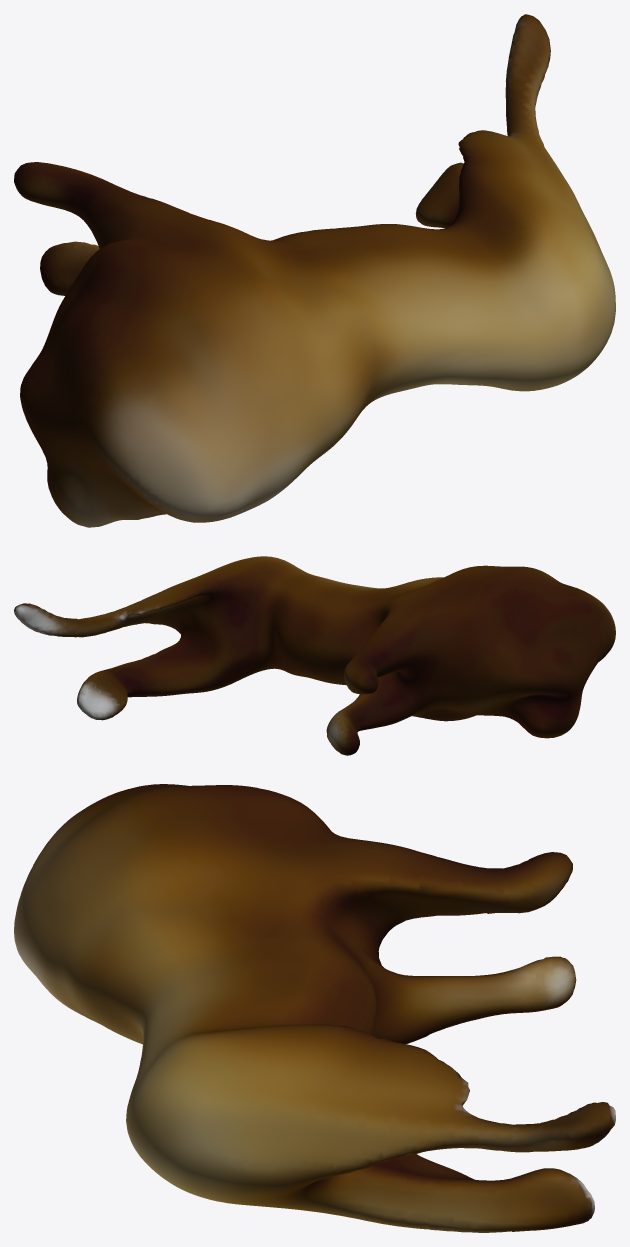
File: lion.glb
3 views of the same model, one above another, from view 1: azimuth 30°, elevation 25°; view 2: azimuth 150°, elevation 25°; view 3: azimuth 270°, elevation 25° (orthographic). The views are drawn at different scales.
Size of the model in its own units: 0.9989 by 0.3255 by 0.7388.
